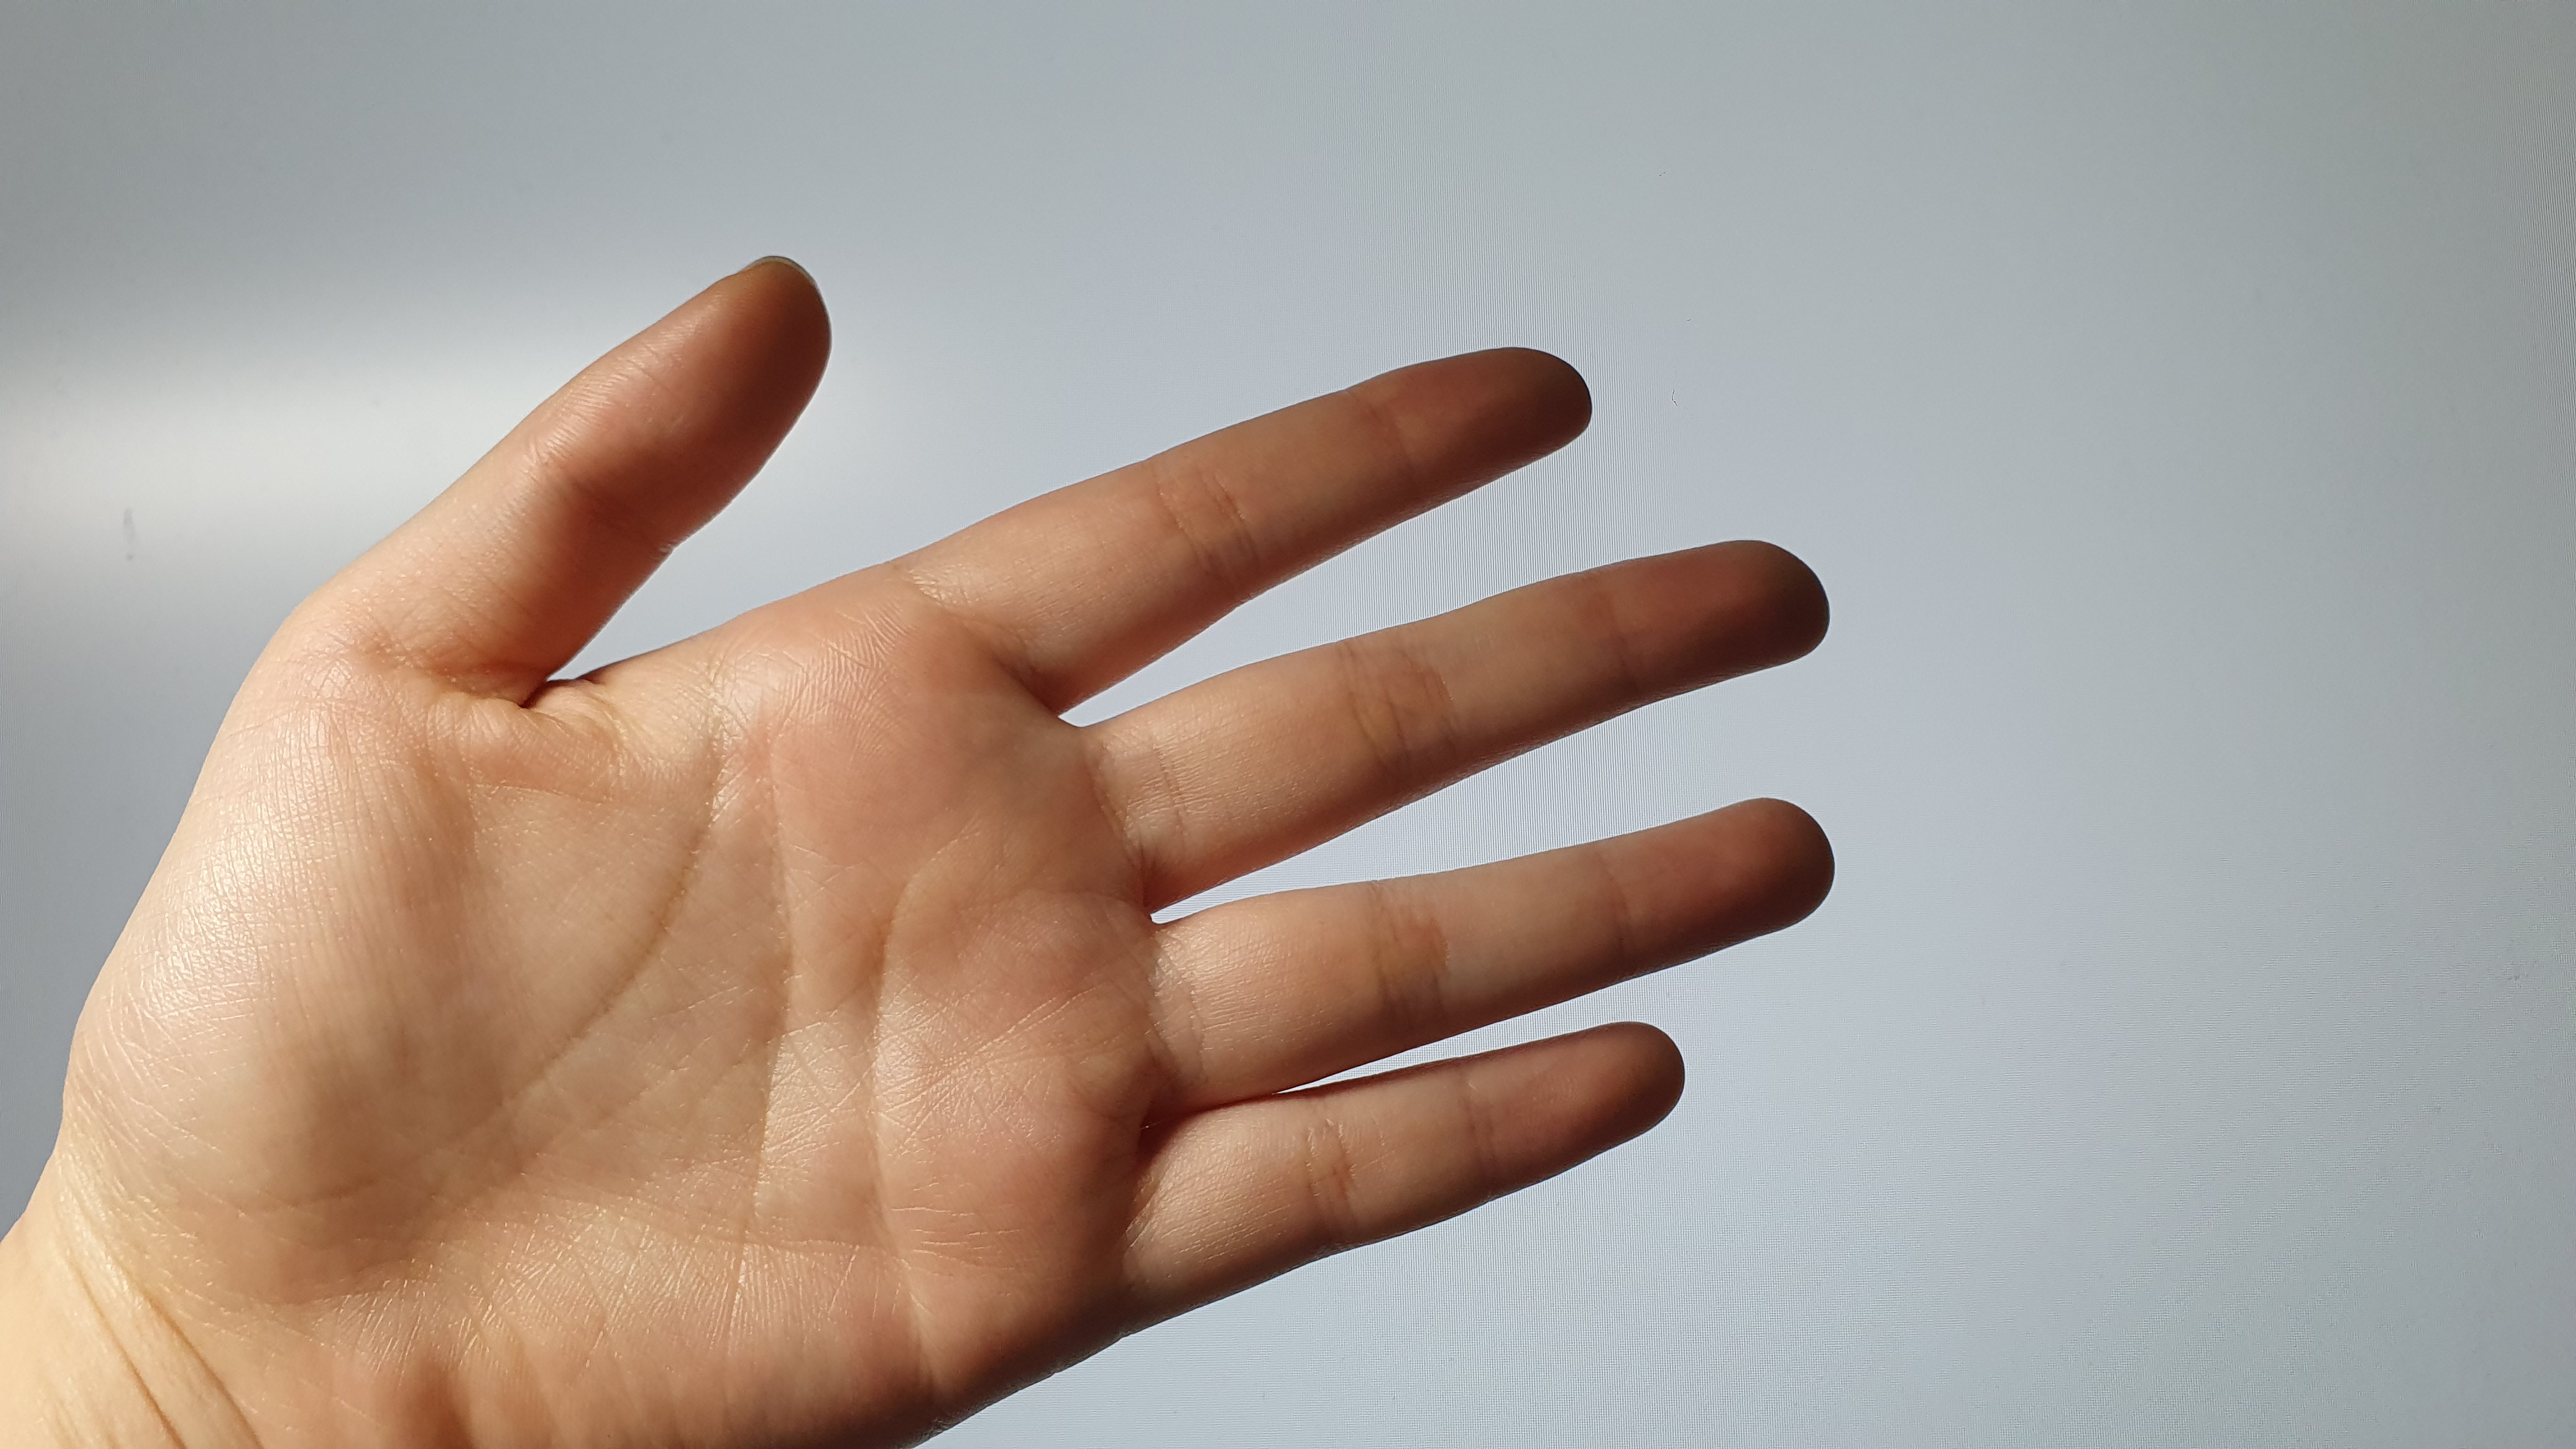hand: (35, 244, 1840, 1449)
index finger: (906, 349, 1605, 692)
middle finger: (1086, 531, 1856, 878)
palm: (94, 656, 1150, 1449)
pinky: (1095, 1003, 1704, 1311)
ring finger: (1138, 787, 1861, 1127)
thumb: (343, 235, 846, 704)
